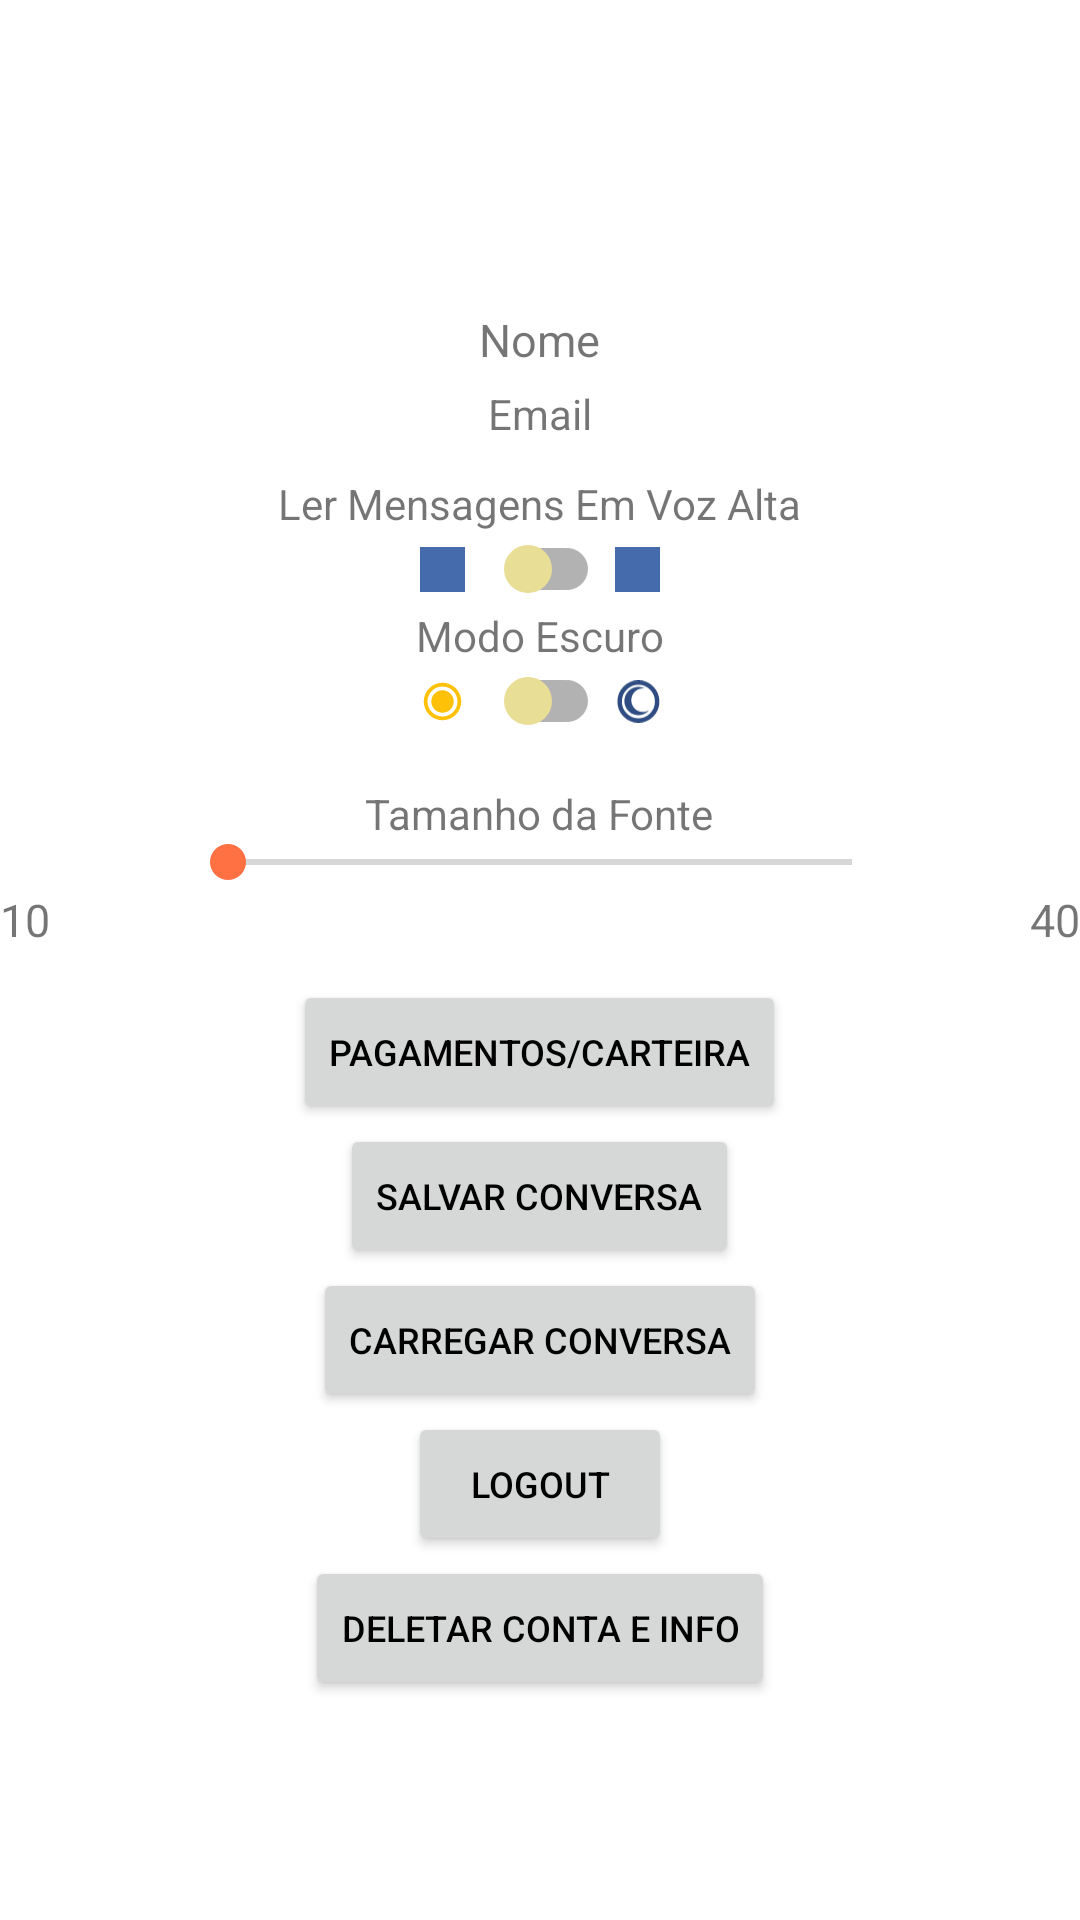

Screen size 1080w x 1920h. Icon name, then its center in pixels as [x,y]:
moon: [638,701]
sun: [442,701]
